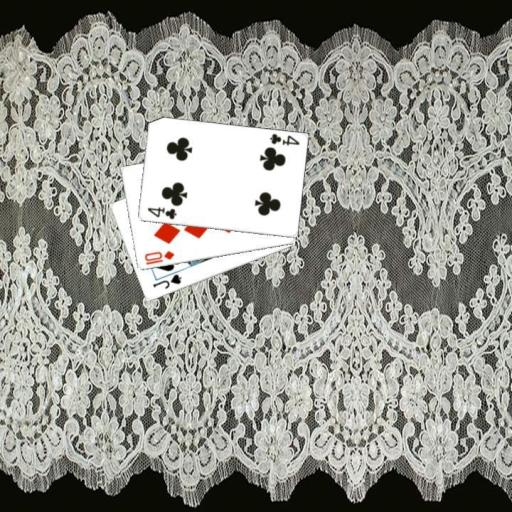10D: (141, 248, 176, 267)
4C: (266, 130, 301, 147), (144, 204, 178, 221)
JS: (149, 271, 183, 291)
